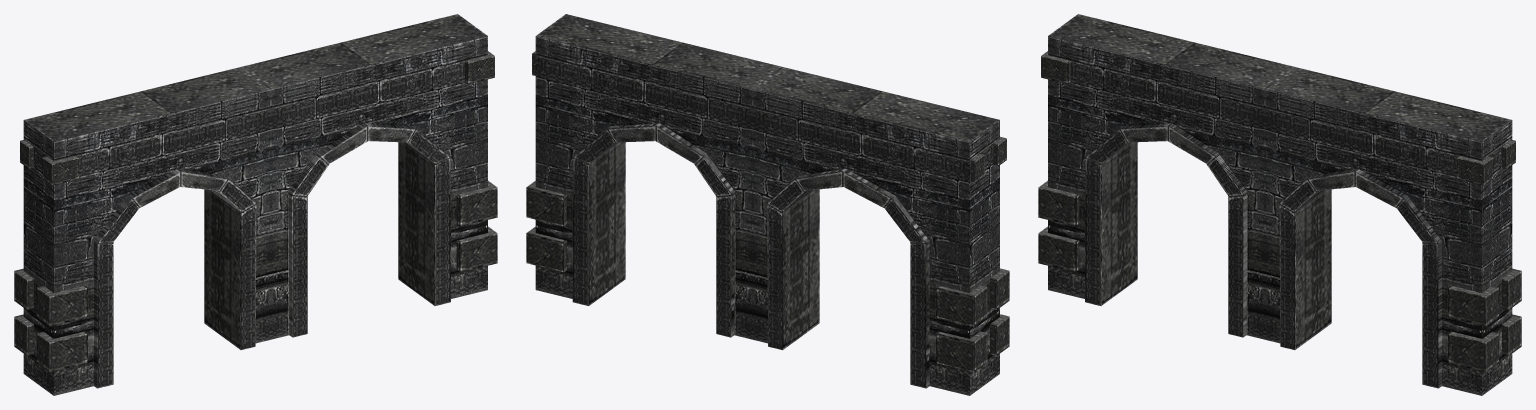
The model's file is dol_open_door_A_re.FBX.
3 views of the same model, side by side, from view 1: azimuth 30°, elevation 25°; view 2: azimuth 150°, elevation 25°; view 3: azimuth 330°, elevation 25° (orthographic).
Visible parts, largest first — view 1: Line002; view 2: Line002; view 3: Line002.
Boxes of the visible parts, <box> form: Line002: <box>14,14,497,395</box>; Line002: <box>526,14,1009,395</box>; Line002: <box>1038,14,1521,395</box>.
Bounding box in the file's own units: 12.08 × 6.55 × 1.71.
